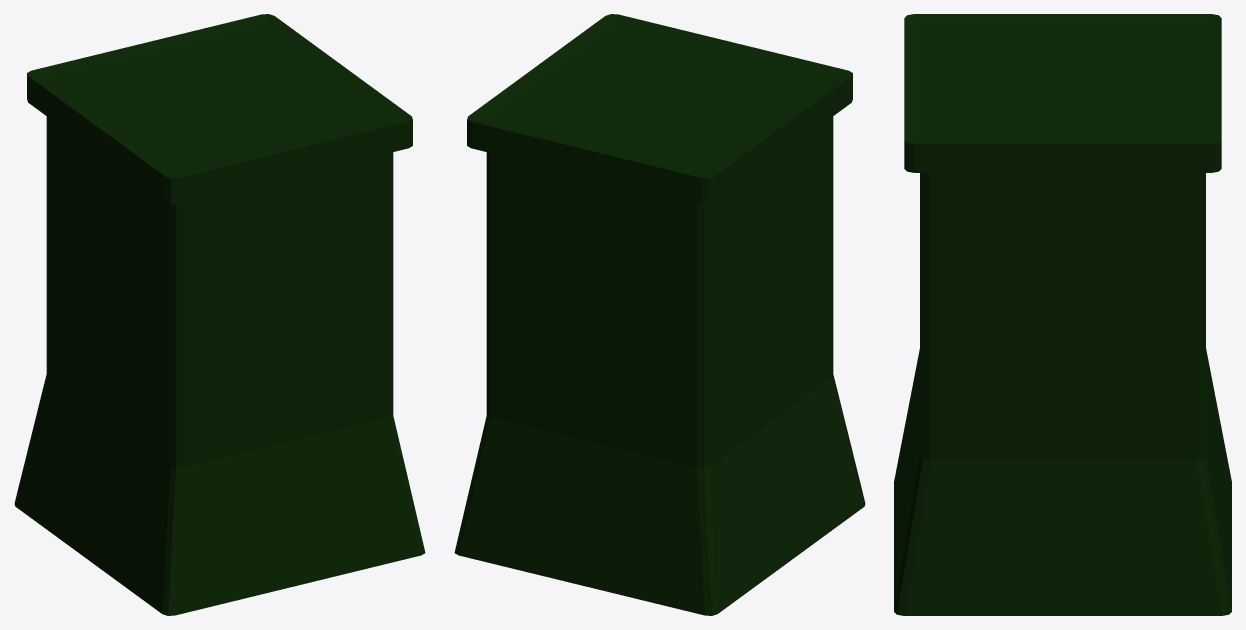
File: square-base-4.fbx
3 views of the same model, side by side, from view 1: azimuth 30°, elevation 25°; view 2: azimuth 150°, elevation 25°; view 3: azimuth 270°, elevation 25° (orthographic). The views are drawn at different scales.
Parts seen in each view (by area): view 1: square-base-4; view 2: square-base-4; view 3: square-base-4.
Part boxes in pixels (left/top/right/bottom): square-base-4: left=14, top=14, right=425, bottom=615; square-base-4: left=454, top=14, right=865, bottom=615; square-base-4: left=894, top=14, right=1231, bottom=615.
Size of the model in its own units: 2.12 by 3.33 by 2.18.
